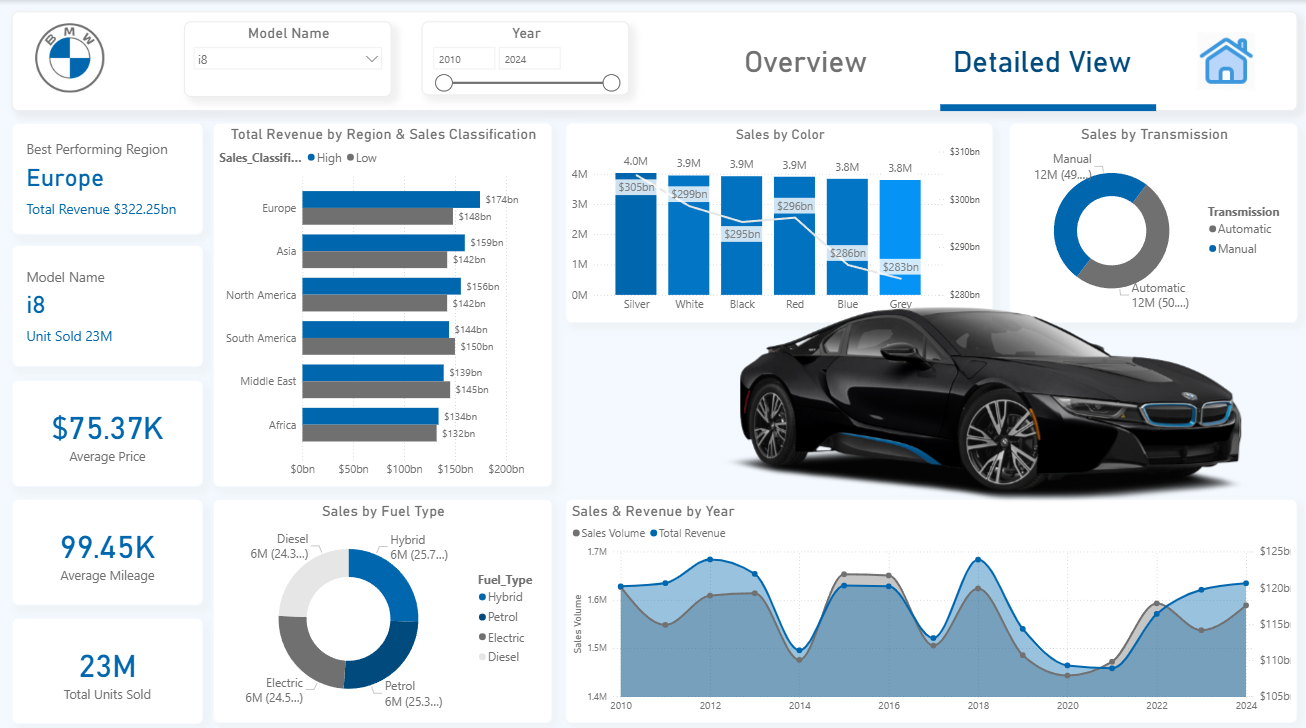

Layout of this report page (visuals, bound fields, positions):
{"tool":"powerbi","page":{"name":"Detailed View","canvas":[1920,1080],"ordinal":2},"visuals":[{"type":"cardVisual","fields":{"Data":["Min(BMW_Car_Sales_Classification.Region)"]},"box":[18.5,179.1,282,164.7],"z":0},{"type":"card","fields":{"Values":["Measures Table.Average Price"]},"box":[18.5,557.8,282,156.4],"z":1000},{"type":"cardVisual","fields":{"Data":["Min(BMW_Car_Sales_Classification.Model)"]},"box":[18.5,360.2,282,179.1],"z":2000},{"type":"card","fields":{"Values":["Measures Table.Average Mileage"]},"box":[18.5,732.8,282,156.4],"z":3000},{"type":"shape","box":[18.5,16.5,1887.5,146.1],"z":4000},{"type":"card","fields":{"Values":["Measures Table.Total Units Sold"]},"box":[18.5,905.7,282,156.4],"z":5000},{"type":"image","box":[45.3,28.8,115.3,111.1],"z":6000},{"type":"textbox","box":[1035.3,59.7,298.5,80.3],"z":7000},{"type":"shape","box":[1381.1,113,317,88.5],"z":8000},{"type":"textbox","box":[1362.6,59.7,335.5,80.3],"z":9000},{"type":"image","box":[1751.6,35,98.8,109.1],"z":10000},{"type":"lineChart","title":"Sales & Revenue by Year","fields":{"Category":["BMW_Car_Sales_Classification.Year"],"Y":["Sum(BMW_Car_Sales_Classification.Sales_Volume)"],"Y2":["Measures Table.Total Revenue"]},"box":[831.6,732.8,1074.4,329.3],"z":11000},{"type":"lineStackedColumnComboChart","title":"Sales by Color","fields":{"Category":["BMW_Car_Sales_Classification.Color"],"Y":["Sum(BMW_Car_Sales_Classification.Sales_Volume)"],"Y2":["Measures Table.Total Revenue"]},"box":[831.6,179.1,627.8,294.3],"z":12000},{"type":"donutChart","title":"Sales by Fuel Type","fields":{"Category":["BMW_Car_Sales_Classification.Fuel_Type"],"Y":["Sum(BMW_Car_Sales_Classification.Sales_Volume)"]},"box":[312.9,732.8,498.1,329.3],"z":13000},{"type":"slicer","title":"Model Name","fields":{"Values":["BMW_Car_Sales_Classification.Model"]},"box":[271.7,30.9,304.6,111.1],"z":14000},{"type":"slicer","title":"Year","fields":{"Values":["BMW_Car_Sales_Classification.Year"]},"box":[619.6,30.9,304.6,109.1],"z":15000},{"type":"shape","box":[1035.3,20.6,298.5,144.1],"z":16000},{"type":"clusteredBarChart","title":"Total Revenue by Region & Sales Classification","fields":{"Category":["BMW_Car_Sales_Classification.Region"],"Y":["Measures Table.Total Revenue"],"Series":["BMW_Car_Sales_Classification.Sales_Classification"]},"box":[312.9,179.1,498.1,535.2],"z":17000},{"type":"donutChart","title":"Sales by Transmission","fields":{"Category":["BMW_Car_Sales_Classification.Transmission"],"Y":["Sum(BMW_Car_Sales_Classification.Sales_Volume)"]},"box":[1482,179.1,424,294.3],"z":18000},{"type":"imageDB603108E3FF4EBFB8047F5653368E8C","fields":{"imageUrl":["BMW Images.URL"],"imageTitle":["BMW_Car_Sales_Classification.Model"]},"box":[983.9,360.2,922.1,428.1],"z":19000}]}

Visuals, with their boxes in screenshot pixels (x1, y1, x2, y2), scaled from the page's 1920x1080 canvas onto the 1306x728 screenshot:
cardVisual - Min(BMW_Car_Sales_Classification.Region): Rect(13, 121, 204, 232)
card - Measures Table.Average Price: Rect(13, 376, 204, 481)
cardVisual - Min(BMW_Car_Sales_Classification.Model): Rect(13, 243, 204, 364)
card - Measures Table.Average Mileage: Rect(13, 494, 204, 599)
shape: Rect(13, 11, 1296, 110)
card - Measures Table.Total Units Sold: Rect(13, 611, 204, 716)
image: Rect(31, 19, 109, 94)
textbox: Rect(704, 40, 907, 94)
shape: Rect(939, 76, 1155, 136)
textbox: Rect(927, 40, 1155, 94)
image: Rect(1191, 24, 1259, 97)
"Sales & Revenue by Year" lineChart: Rect(566, 494, 1296, 716)
"Sales by Color" lineStackedColumnComboChart: Rect(566, 121, 993, 319)
"Sales by Fuel Type" donutChart: Rect(213, 494, 552, 716)
"Model Name" slicer: Rect(185, 21, 392, 96)
"Year" slicer: Rect(421, 21, 629, 94)
shape: Rect(704, 14, 907, 111)
"Total Revenue by Region & Sales Classification" clusteredBarChart: Rect(213, 121, 552, 481)
"Sales by Transmission" donutChart: Rect(1008, 121, 1296, 319)
imageDB603108E3FF4EBFB8047F5653368E8C - BMW Images.URL x BMW_Car_Sales_Classification.Model: Rect(669, 243, 1296, 531)
